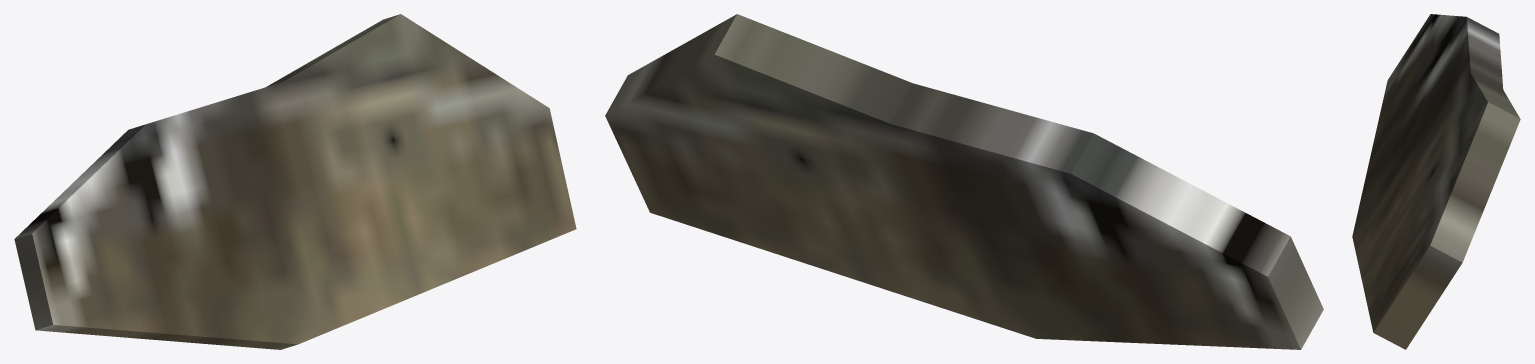
File: USA - Aviation - Cargo Plane - Damage State 3 - AvCargoPln_d3.glb
3 views of the same model, side by side, from view 1: azimuth 30°, elevation 25°; view 2: azimuth 150°, elevation 25°; view 3: azimuth 270°, elevation 25° (orthographic). The views are drawn at different scales.
Visible parts, largest first — view 1: AVCARGOPLN_D3; view 2: AVCARGOPLN_D3; view 3: AVCARGOPLN_D3.
Boxes of the visible parts, x1=… form: AVCARGOPLN_D3: x1=14, y1=14, x2=576, y2=349; AVCARGOPLN_D3: x1=605, y1=14, x2=1323, y2=349; AVCARGOPLN_D3: x1=1352, y1=14, x2=1520, y2=349.
Bounding box in the file's own units: 10.96 × 5.07 × 3.36.
Materials: 1 (1 with a texture image).
